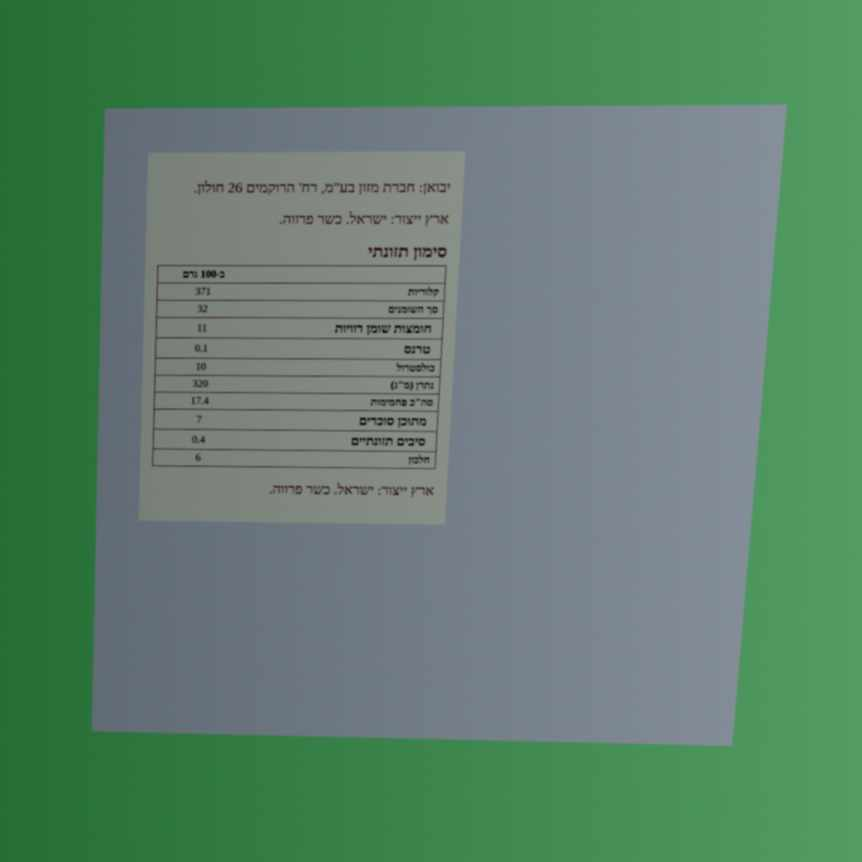carbs: (189, 394, 210, 407)
energy: (194, 284, 212, 298)
fat: (196, 302, 209, 315)
protein: (194, 451, 202, 464)
